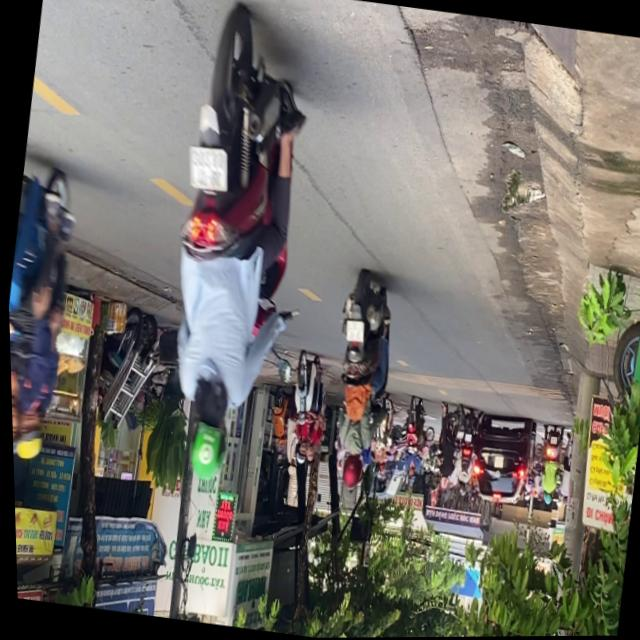helmet: (178, 405, 229, 484), (9, 405, 44, 460), (335, 452, 361, 490), (9, 400, 20, 454), (290, 443, 304, 465)
licenseplate: (132, 7, 331, 493), (3, 137, 95, 465), (313, 269, 403, 494), (276, 350, 331, 468)
motorcyclist: (300, 444, 312, 467)
nohelmet: (182, 143, 230, 190), (341, 320, 363, 343)
